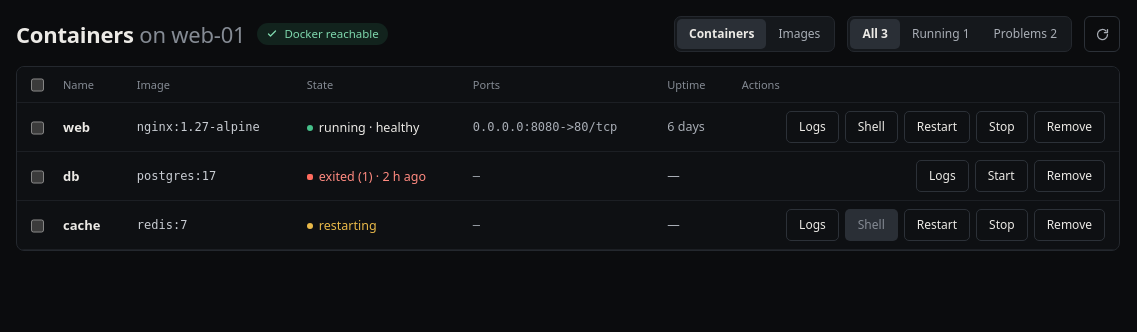
it: DockerWorkspace multi-select › starts only the stopped containers of a selection without a dialog
Expected: the text "Docker reachable" is shown, [258,23,388,45]
Click the checkbox named "Select all containers".
click(38, 85)  # box [31,77,44,93]
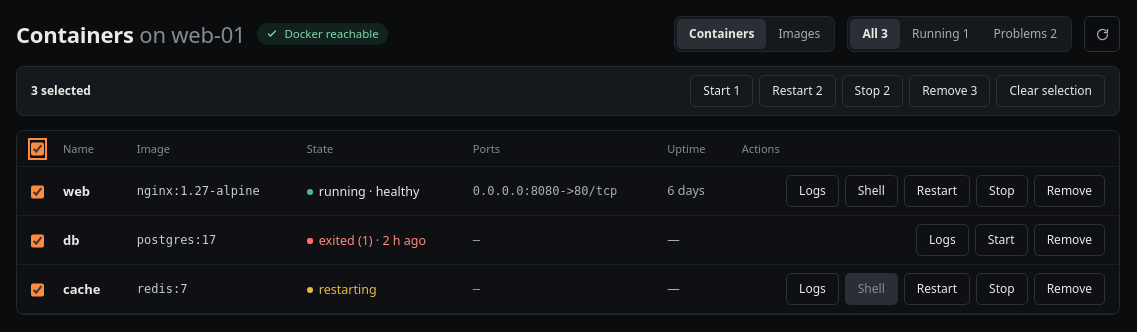
Result: the text "3 selected" is shown at [31,83,91,99]
Click the button with aria-label "Start 1 selected container".
click(722, 91)  # box [690,75,753,107]
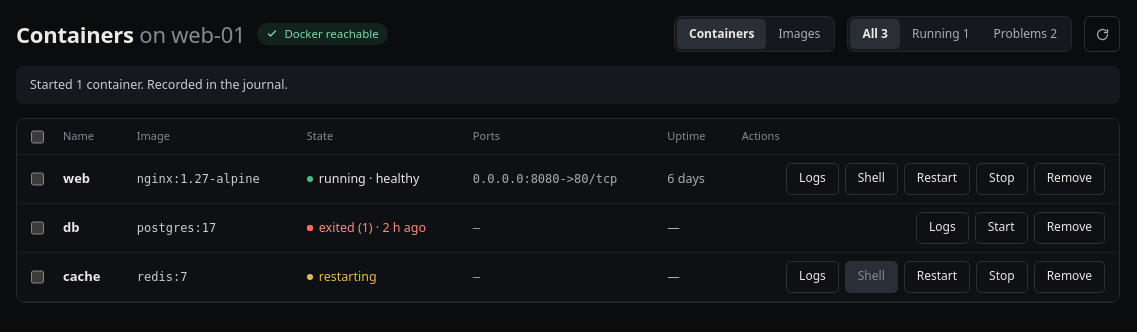
Result: the text "Started 1 container. Recorded in the journal." is shown at [16,66,1120,104]
